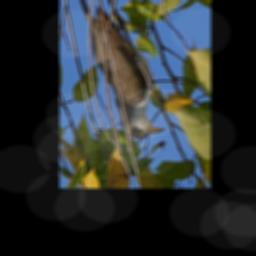Cuckoo: (90, 5, 184, 140)
